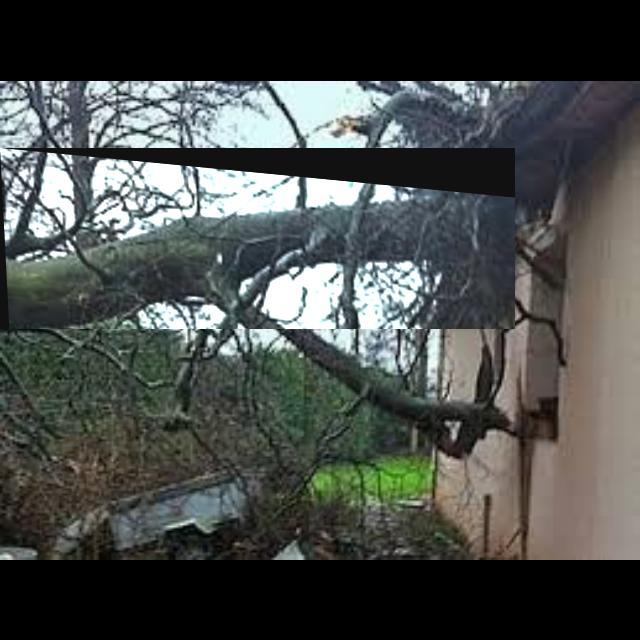fallen_tree: (0, 148, 516, 330)
